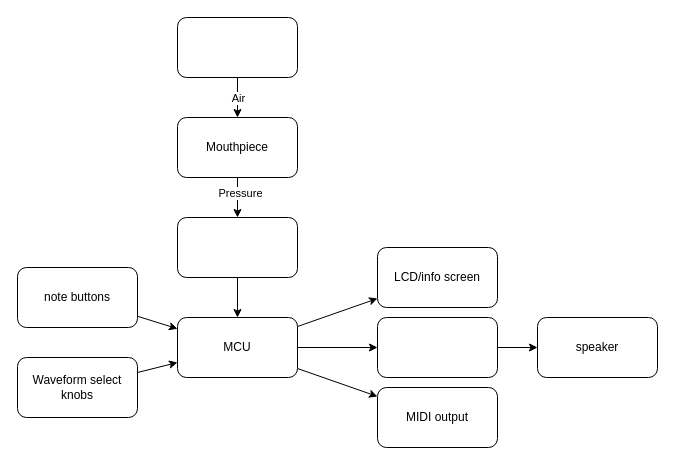
The diagram is 675 pixels wide and 465 high, and some of its shapes have lost their labels. The shapes that lost their labels are listed below. From the top down, each one's centre as x and y in pixels, then its label:
(x=237, y=47): Human Mouth
(x=237, y=247): pA to signal
(x=437, y=347): pitched waveform
